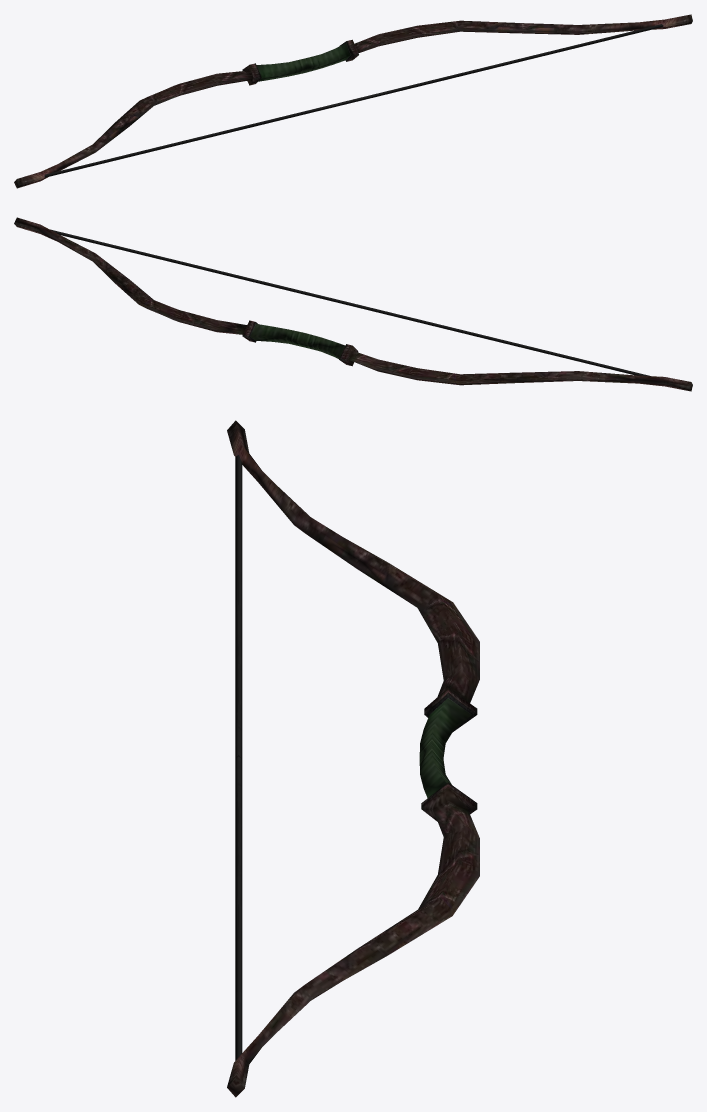
Rendered from KM_BOW_09.glb.
The picture shows the model from 3 angles, top to bottom: view 1: azimuth 30°, elevation 25°; view 2: azimuth 150°, elevation 25°; view 3: azimuth 270°, elevation 25°; orthographic projection. The views are drawn at different scales.
Visible parts, largest first — view 1: KM_BOW_09; view 2: KM_BOW_09; view 3: KM_BOW_09.
Part boxes in pixels (left/top/right/bottom): KM_BOW_09: left=14, top=14, right=692, bottom=188; KM_BOW_09: left=14, top=217, right=692, bottom=391; KM_BOW_09: left=227, top=420, right=479, bottom=1097.
Bounding box in the file's own units: 2.01 × 0.0592 × 0.3263.
2 materials, 2 textured.
